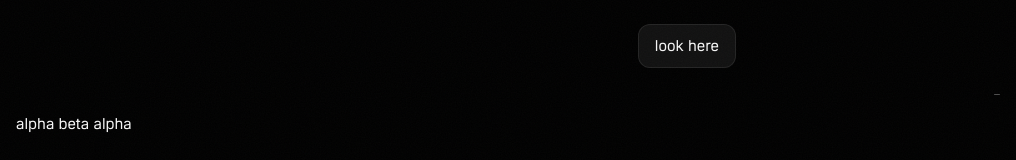
Test: MessagesTimeline Mod+F › opens find-in-thread on Mod+F and searches rendered transcript text
Later steps or results of the test are not shown.
Expected: the field labelled "Find in thread" is not shown
Press f
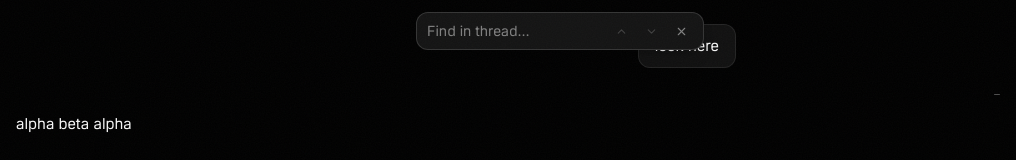
Type "alpha" into the field labelled "Find in thread" at (515, 31), box [427, 21, 603, 41]
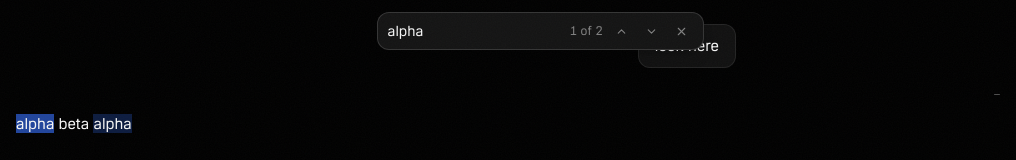
Expected: the text "1 of 2" is shown, [570, 23, 603, 39]
Press Enter in the field named "Find in thread", box [388, 21, 564, 41]
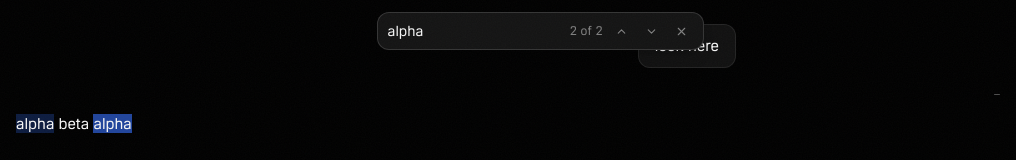
Expected: the text "2 of 2" is shown, [570, 23, 603, 39]
